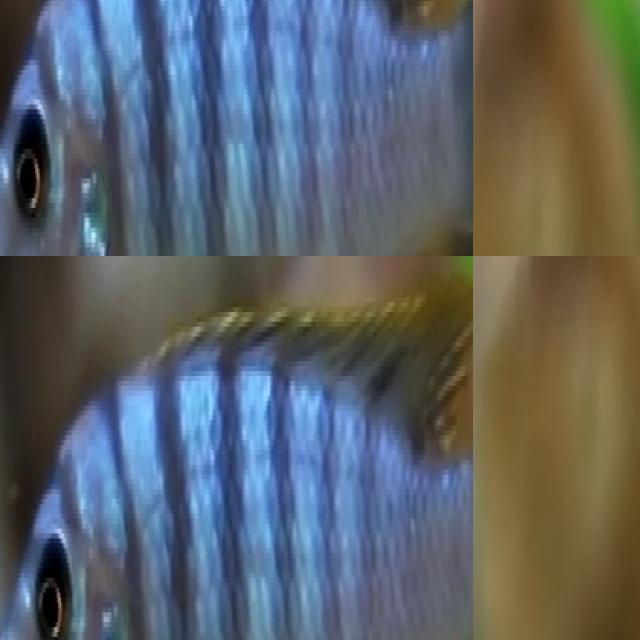fish: (0, 256, 473, 640), (0, 0, 473, 256)
